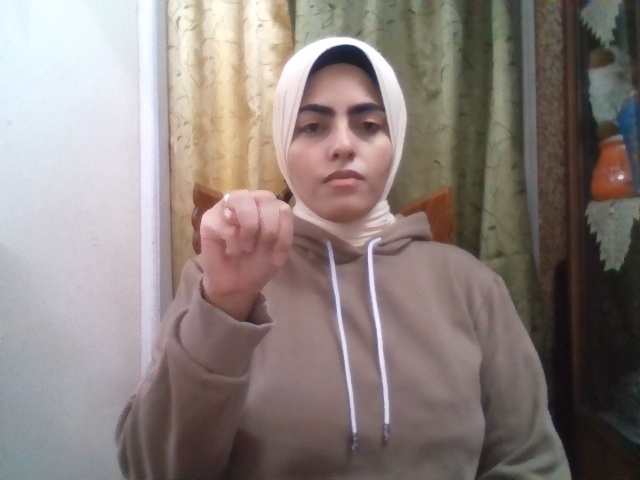M: (200, 189, 294, 296)
